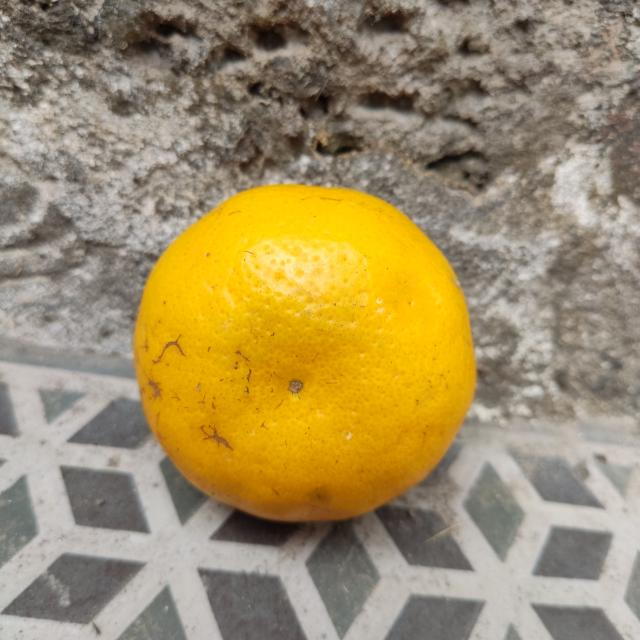orange: (132, 183, 476, 523)
